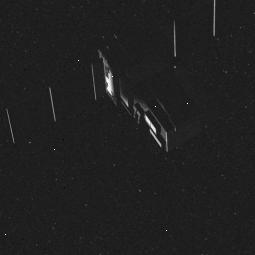soho: (80, 19, 220, 162)
